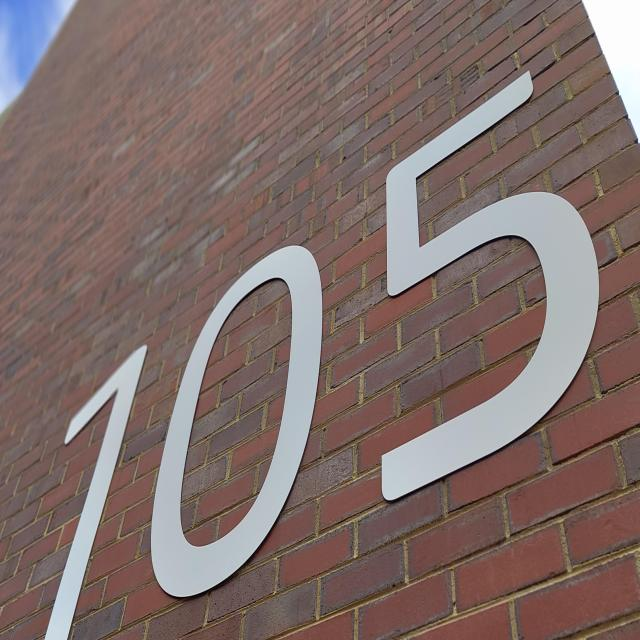character: (379, 63, 607, 518), (150, 239, 326, 604), (40, 334, 154, 640)
